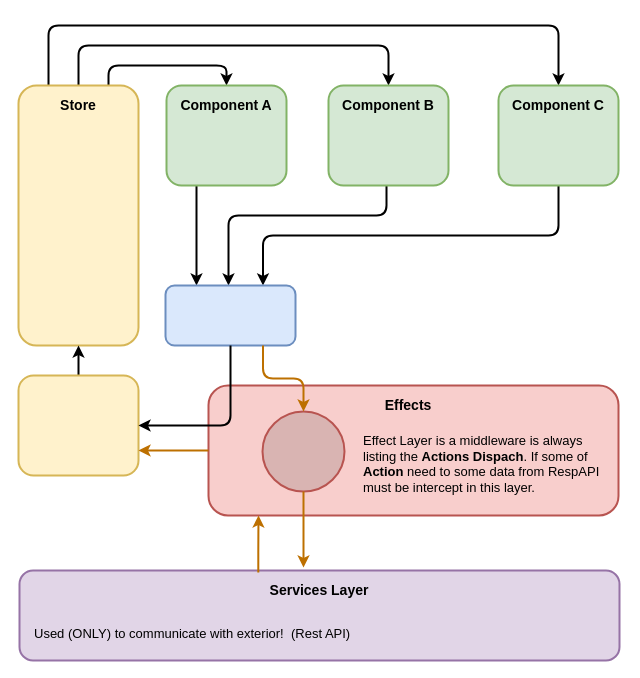
The diagram is 640 pixels wide and 678 high, and some of its shapes have lost their labels. Here are the shapes that lost their labels. From the top down, the box of each, then its label:
(164, 284, 296, 346): Actions
(17, 374, 139, 476): Reducer
